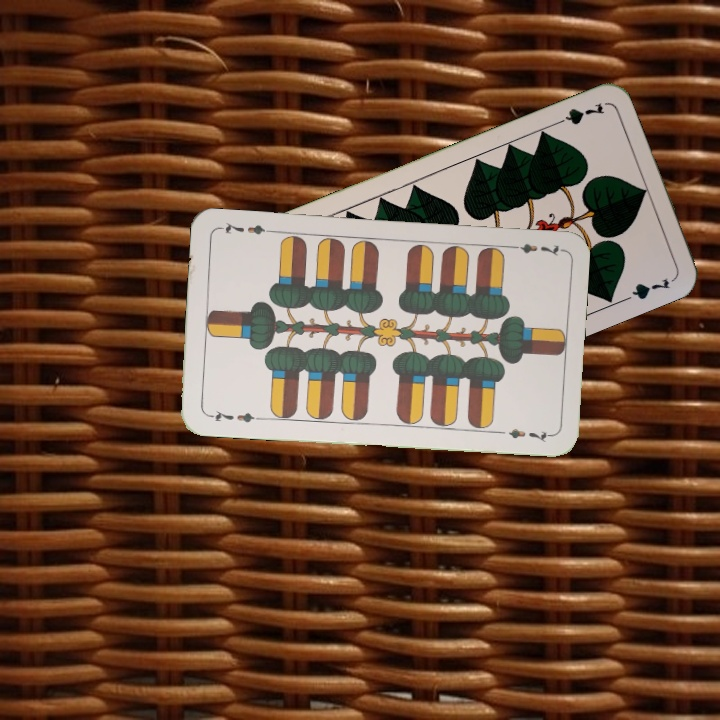E7: (505, 239, 564, 259), (204, 406, 263, 425)
G7: (549, 99, 607, 129)
